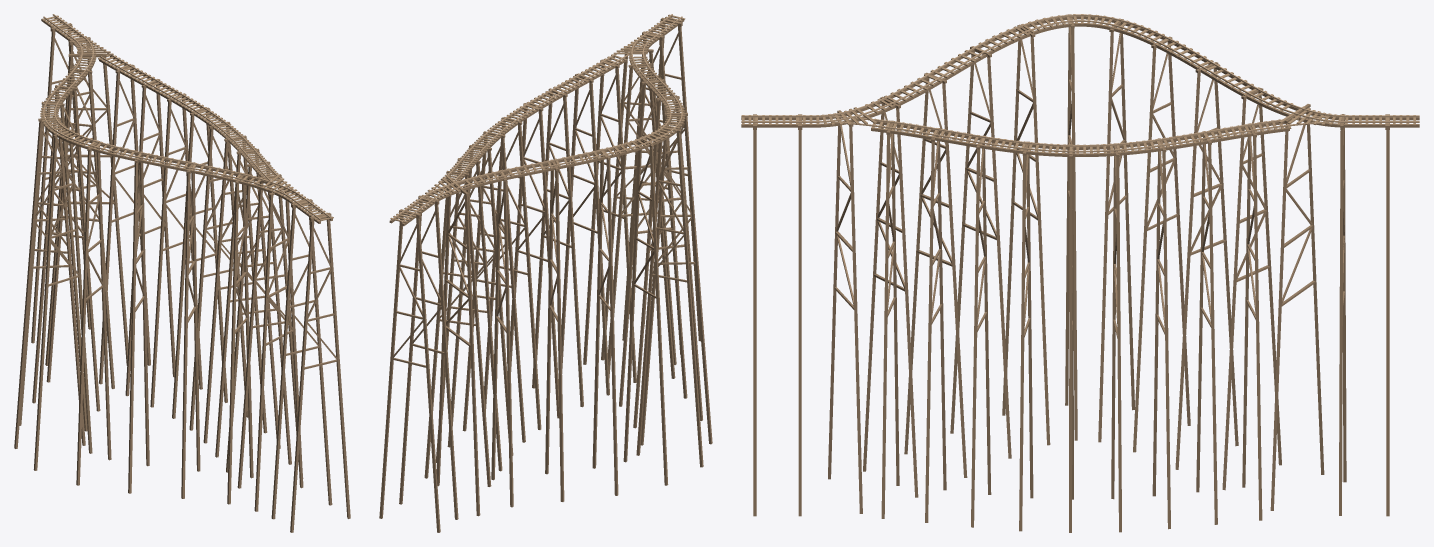
Rendered from MinecartMayhemRailJunctionL.glb.
3 views of the same model, side by side, from view 1: azimuth 30°, elevation 25°; view 2: azimuth 150°, elevation 25°; view 3: azimuth 270°, elevation 25° (orthographic). The views are drawn at different scales.
Visible parts, largest first — view 1: Trestle, Ties, Rails; view 2: Trestle, Ties, Rails; view 3: Trestle, Ties, Rails.
Part boxes in pixels (x1,y1,x2,y2): Trestle: [14, 18, 350, 532]; Ties: [40, 15, 333, 221]; Rails: [43, 14, 331, 220]; Trestle: [379, 17, 712, 532]; Ties: [390, 14, 685, 223]; Rails: [391, 14, 682, 222]; Trestle: [741, 14, 1419, 532]; Ties: [742, 14, 1415, 155]; Rails: [741, 14, 1419, 152].
Size of the model in its own units: 67.51 by 98.78 by 150.
